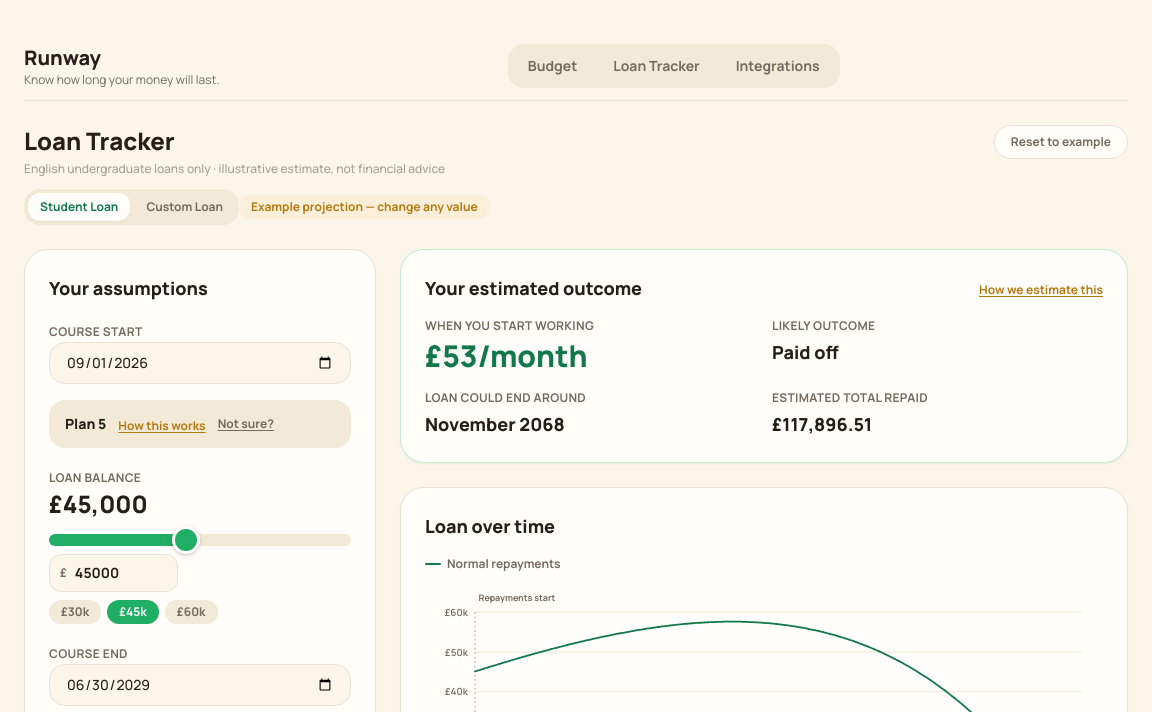
LoanTrackerShell - How this works disclosures › keeps 'How we estimate this' near the projection closed by default, then opens it
Step 1. Click the button "How we estimate this" → (1041, 290), box x1=979 y1=282 x2=1103 y2=298
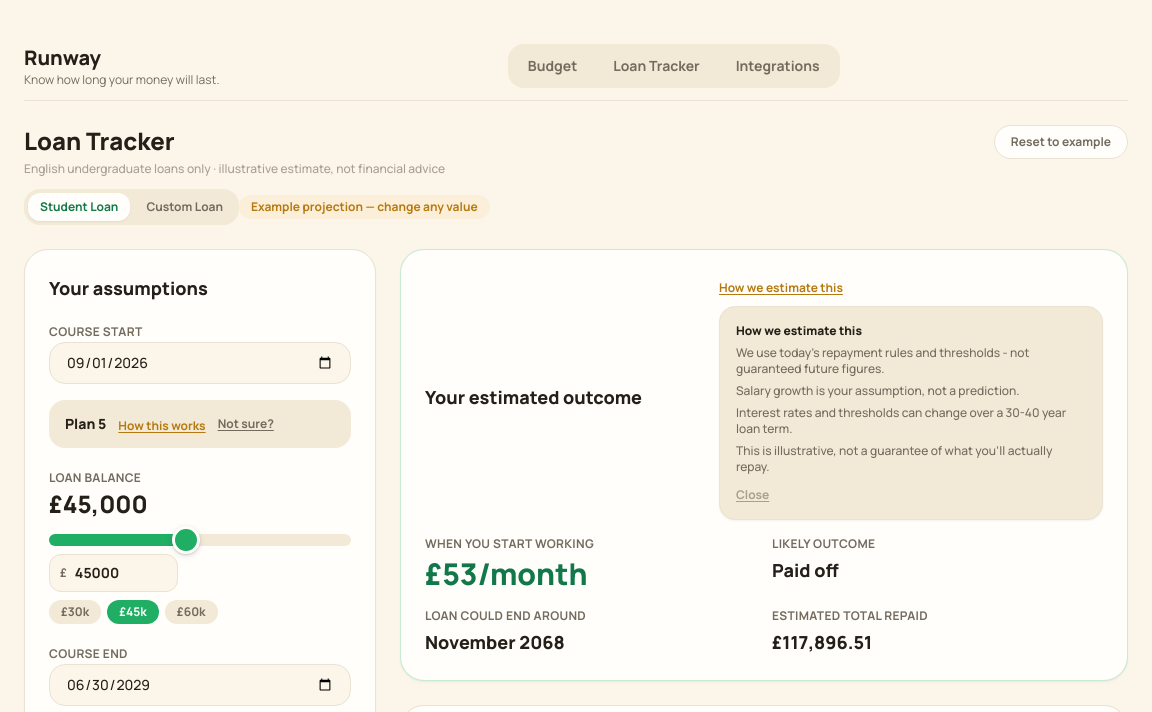
Now the text "Salary growth is your assumption, not a prediction." is shown, box x1=736 y1=382 x2=1020 y2=399
